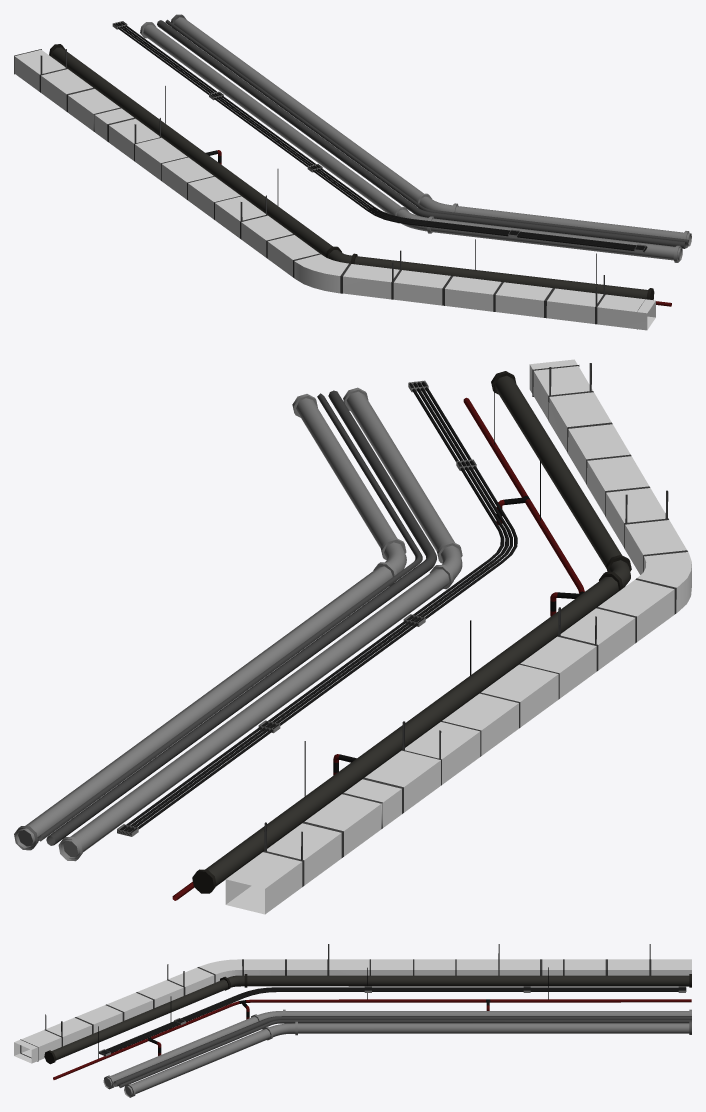
The model's file is SM_H_Building_Tide_Hall_07b_ATLAS.fbx.
The picture shows the model from 3 angles, top to bottom: view 1: azimuth 30°, elevation 25°; view 2: azimuth 150°, elevation 25°; view 3: azimuth 270°, elevation 25°; orthographic projection. The views are drawn at different scales.
Parts seen in each view (by area): view 1: SM_H_Building_Tide_Hall_07b_ATLAS; view 2: SM_H_Building_Tide_Hall_07b_ATLAS; view 3: SM_H_Building_Tide_Hall_07b_ATLAS.
Boxes of the visible parts, box(x1,y1,x2,y2) form: SM_H_Building_Tide_Hall_07b_ATLAS: box(14, 14, 691, 330); SM_H_Building_Tide_Hall_07b_ATLAS: box(14, 359, 691, 914); SM_H_Building_Tide_Hall_07b_ATLAS: box(14, 944, 691, 1097).
Bounding box in the file's own units: 771 × 1710 × 131.
